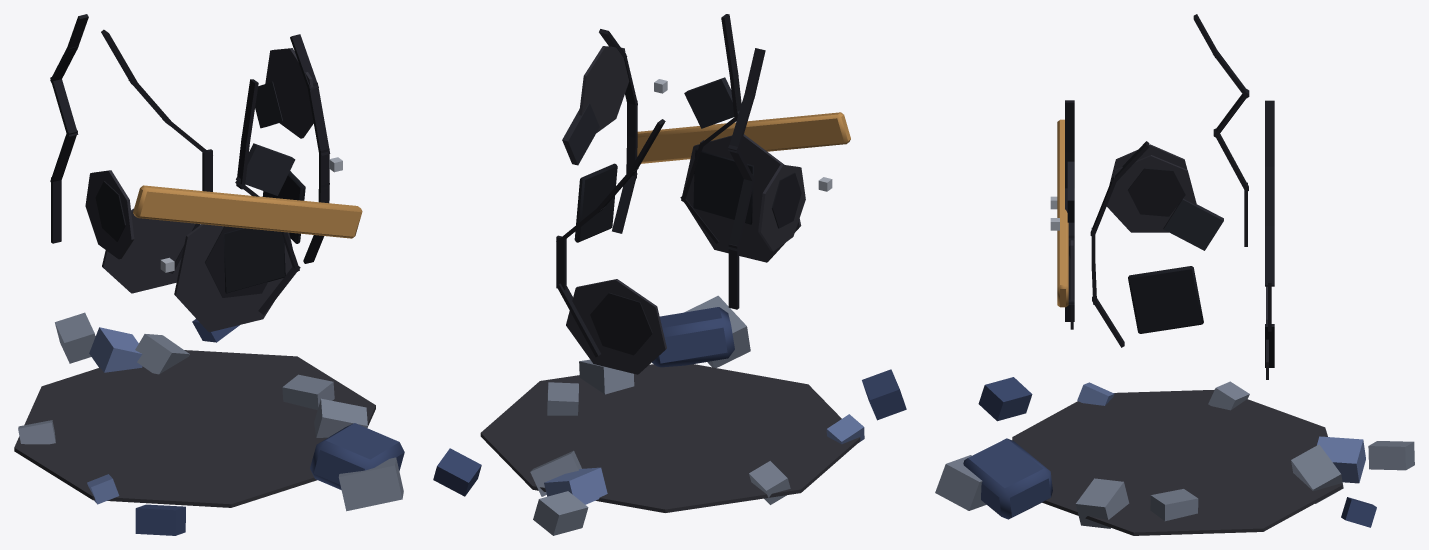
Rendered from wall_dmg_2_2.glb.
3 renders of one model, left to right at view 1: azimuth 30°, elevation 25°; view 2: azimuth 150°, elevation 25°; view 3: azimuth 270°, elevation 25°, orthographic. The views are drawn at different scales.
Visible parts, largest first — view 1: body; view 2: body; view 3: body.
Boxes of the visible parts, left/top/right/bottom form: body: left=14, top=14, right=404, bottom=535; body: left=433, top=14, right=906, bottom=535; body: left=935, top=14, right=1414, bottom=535.
Bounding box in the file's own units: 1.77 × 2.41 × 2.52.
